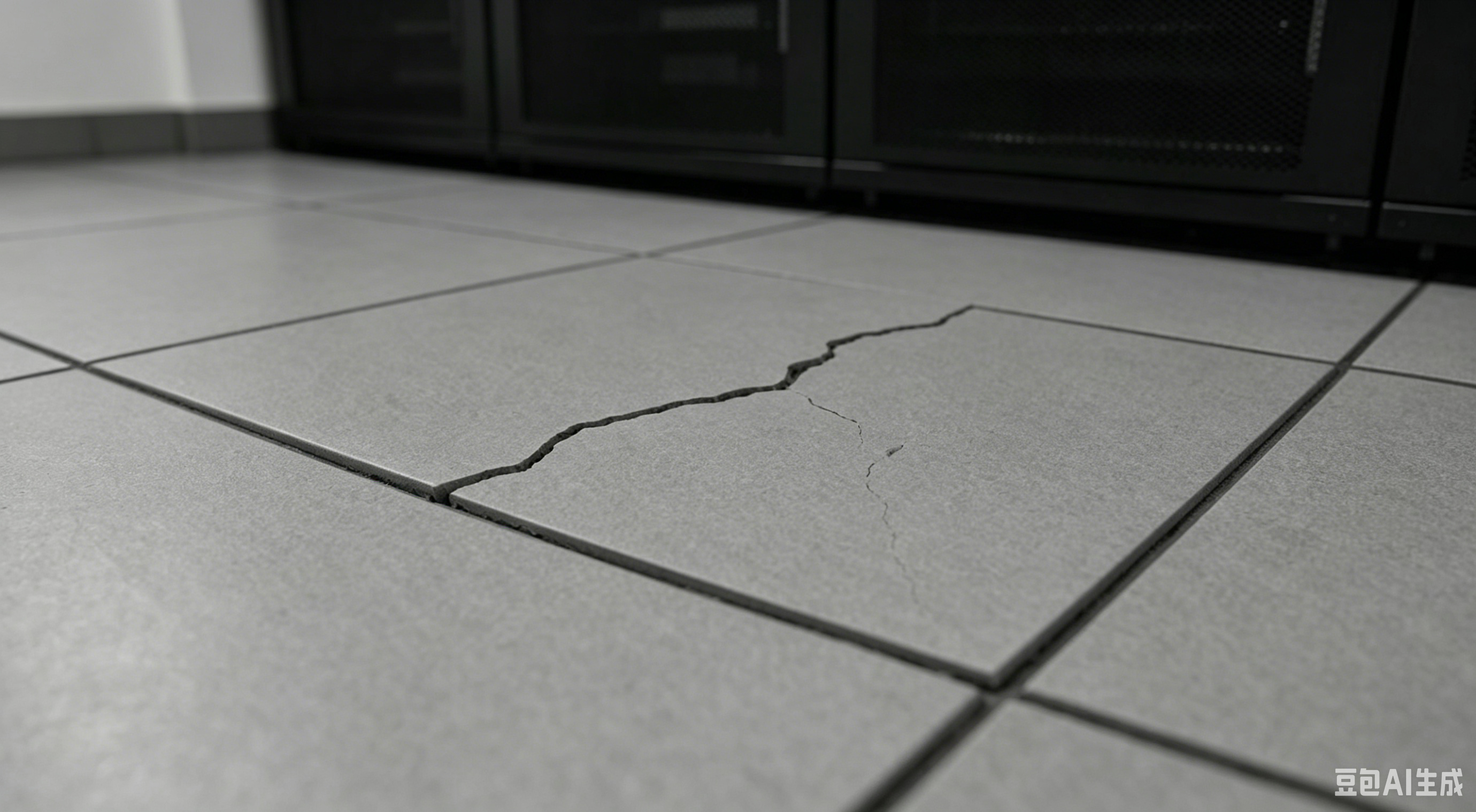floor_defect: (274, 416, 612, 553), (842, 416, 948, 630), (762, 293, 998, 369), (577, 374, 826, 424)
